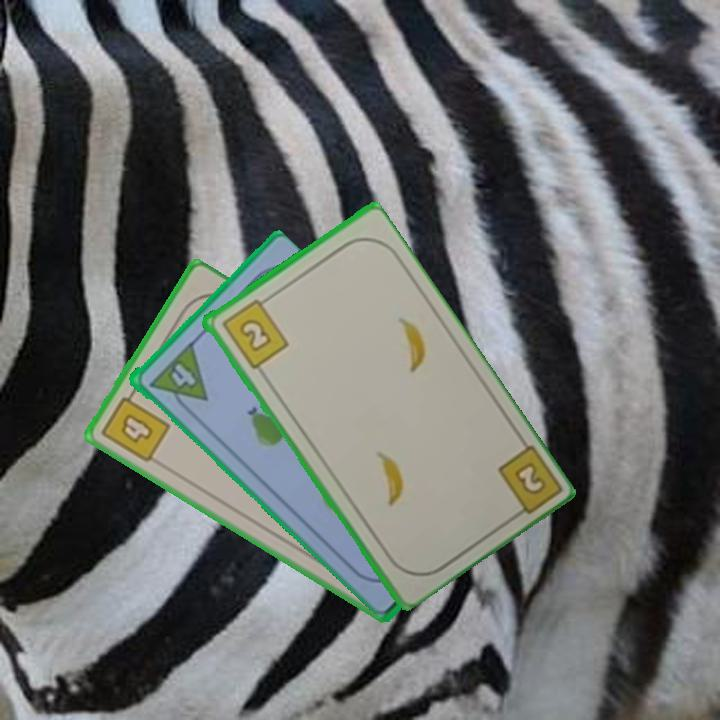2b: (493, 440, 562, 524), (218, 293, 291, 372)
4b: (97, 385, 173, 466)
4p: (145, 339, 210, 418)
